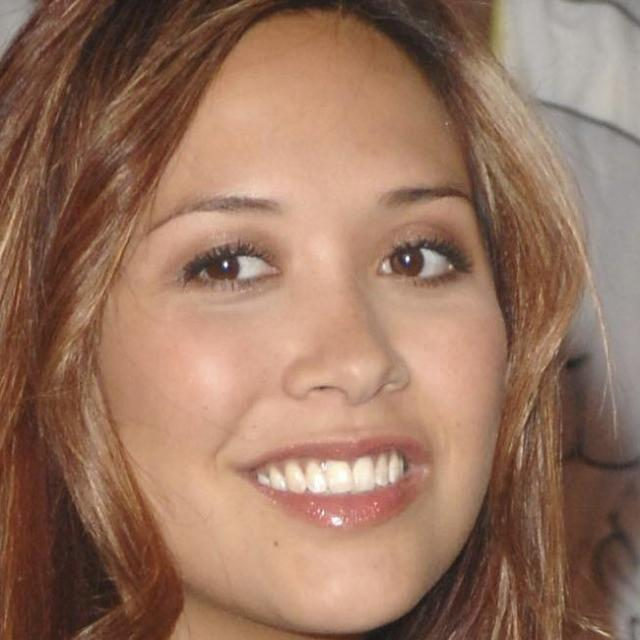Normal: (77, 3, 517, 632)
